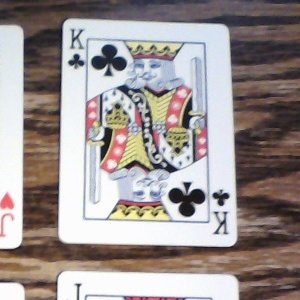card: (59, 16, 240, 248)
